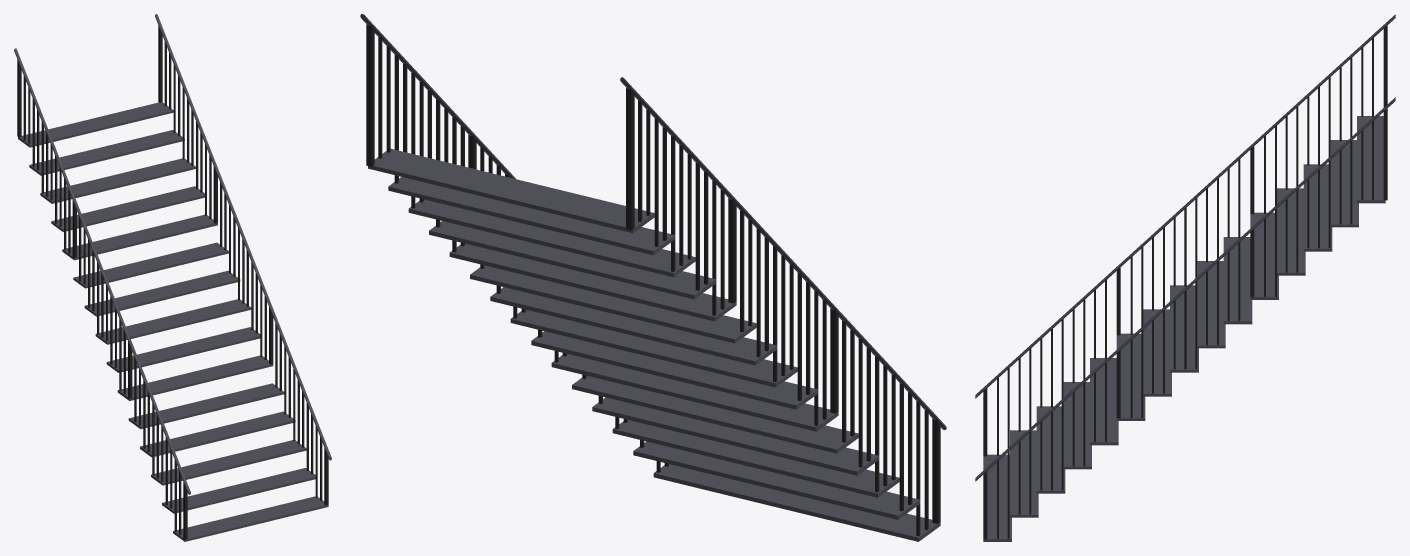
Rendered from metalRailStairs.glb.
3 renders of one model, left to right at view 1: azimuth 30°, elevation 25°; view 2: azimuth 150°, elevation 25°; view 3: azimuth 270°, elevation 25°, orthographic. The views are drawn at different scales.
Parts seen in each view (by area): view 1: Stair_metal; view 2: Stair_metal; view 3: Stair_metal.
Boxes of the visible parts, x1,y1,x2,y2 form: Stair_metal: (14, 14, 331, 541); Stair_metal: (360, 14, 946, 541); Stair_metal: (975, 14, 1395, 541).
Size of what is drawn, in the model's own units: 2 by 4.89 by 4.2.
1 material, 1 textured.
